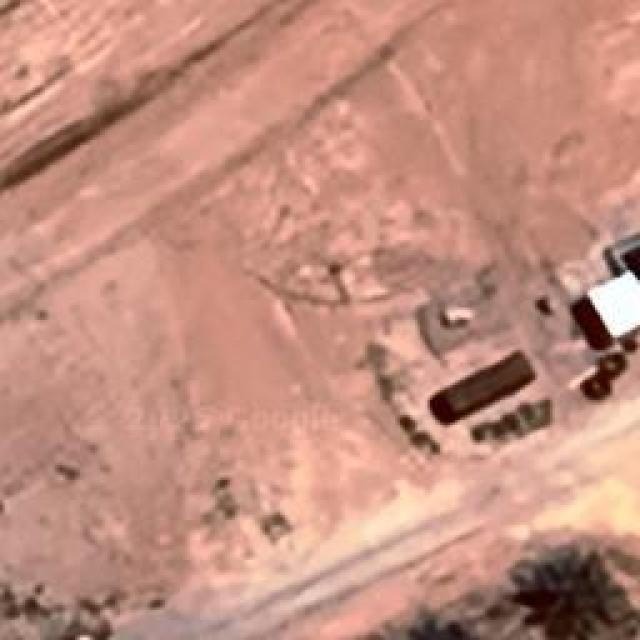PalmTree: (118, 28, 560, 598), (95, 85, 429, 626)
